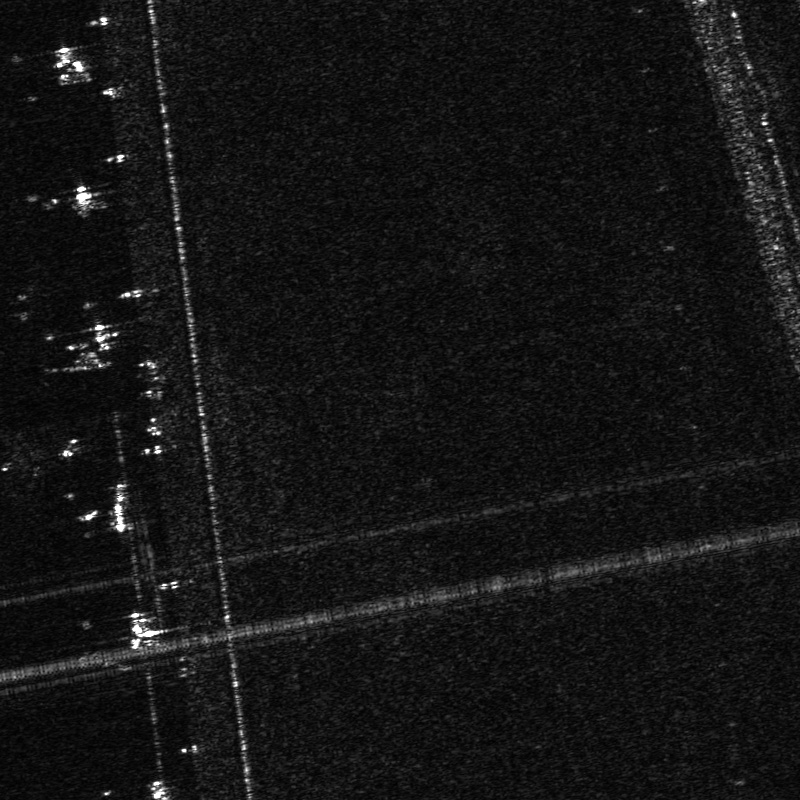A220: (1, 430, 54, 497)
